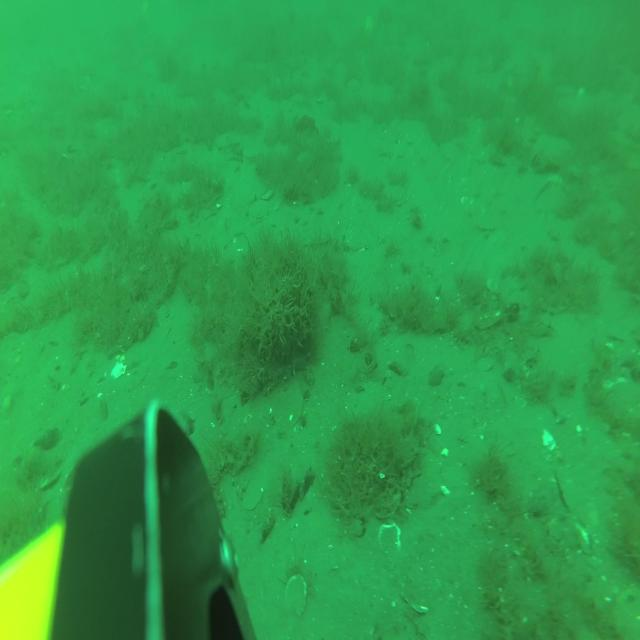scallop: (274, 381, 302, 433), (283, 572, 307, 618), (378, 522, 402, 555), (242, 481, 263, 512), (250, 198, 268, 222), (477, 214, 497, 232)
